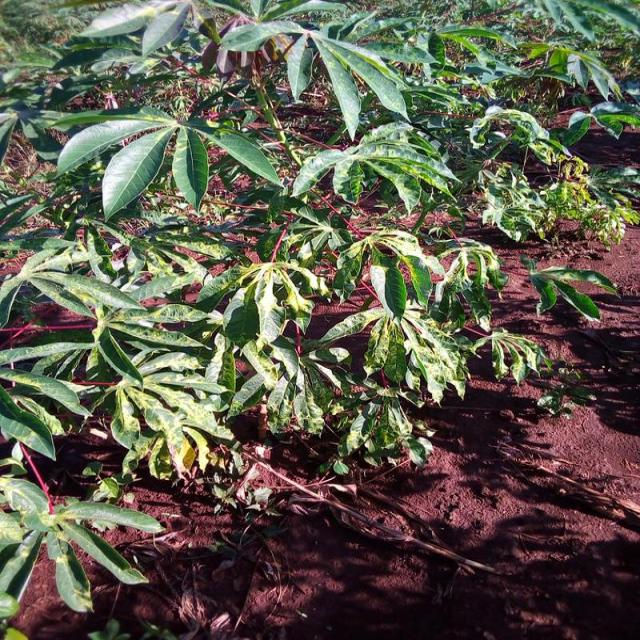cassava leaf: (101, 123, 174, 222)
